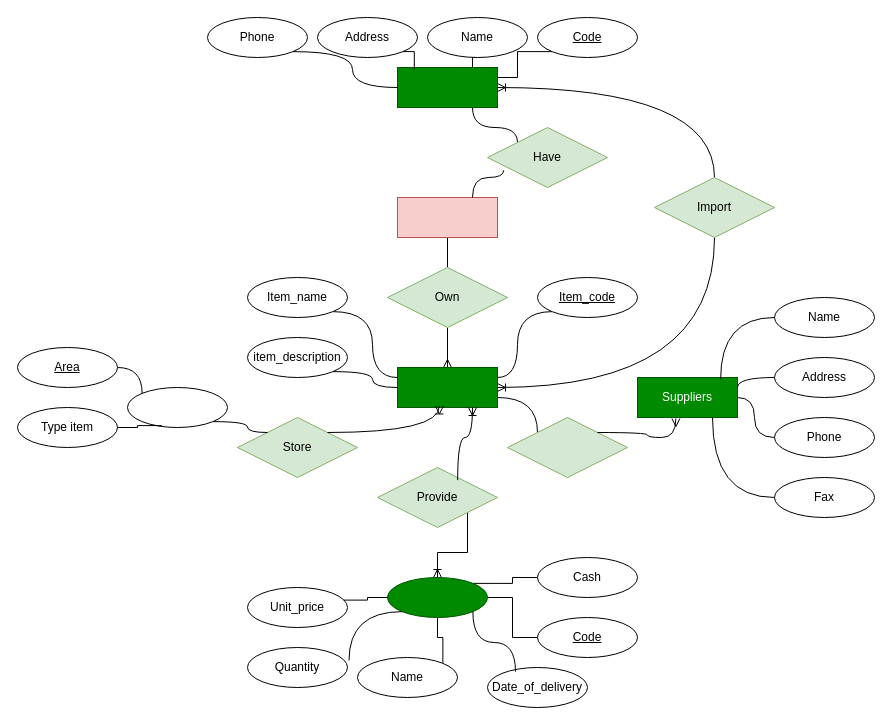
This 892x725 diagram has some shape labels left out. Here are the shapes that lost their labels. From the top down, the centre of each, then its label:
At point (447, 87): "Stores".
At point (447, 217): "Company".
At point (177, 407): "Warehouse".
At point (447, 387): "Electronic item".
At point (567, 447): "Offer".
At point (437, 597): "Export Bill".
